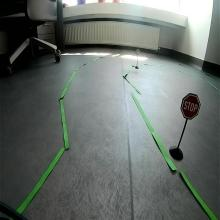stop: (181, 92, 201, 121)
